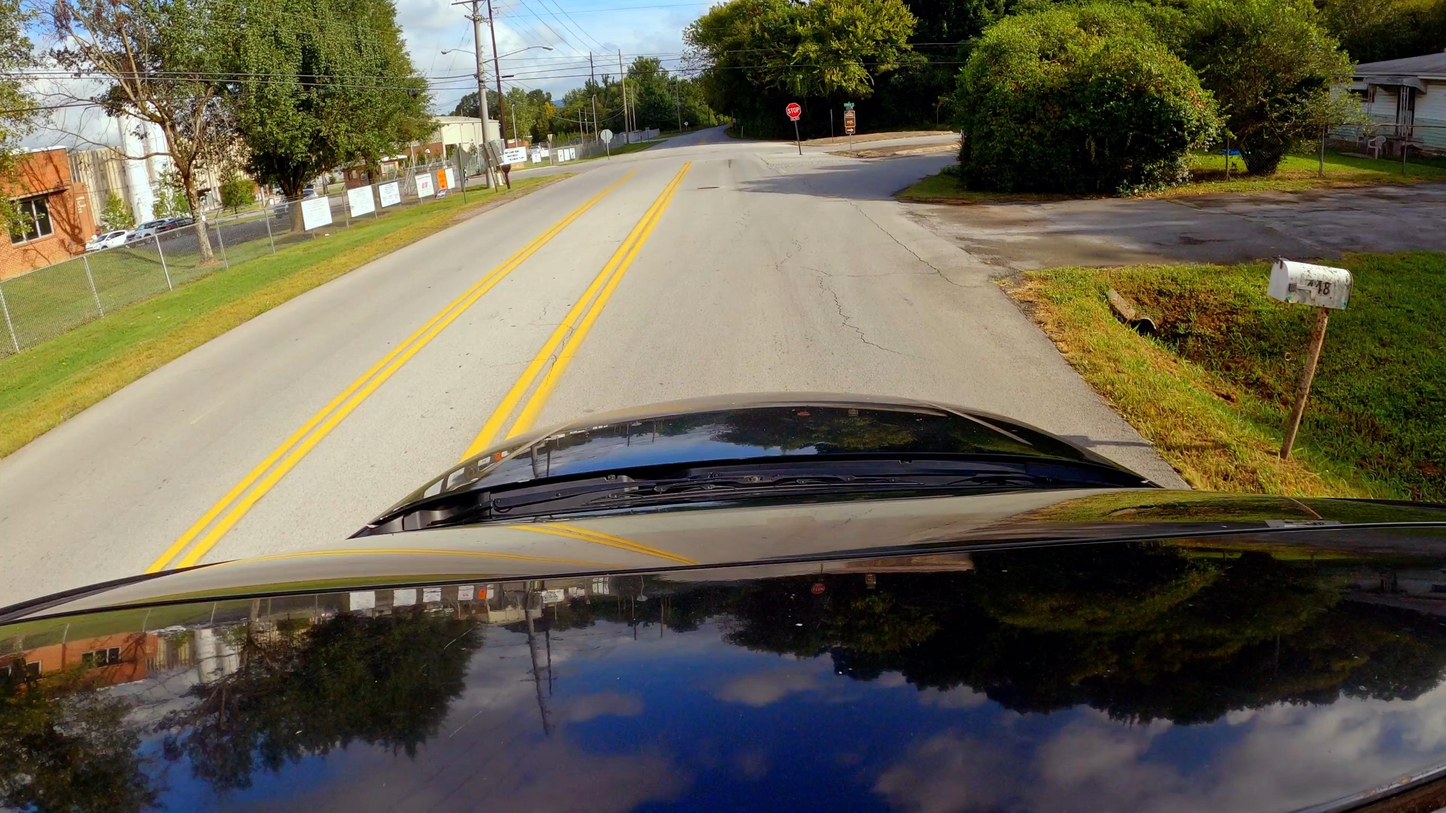Ice: (0, 128, 1192, 607)
